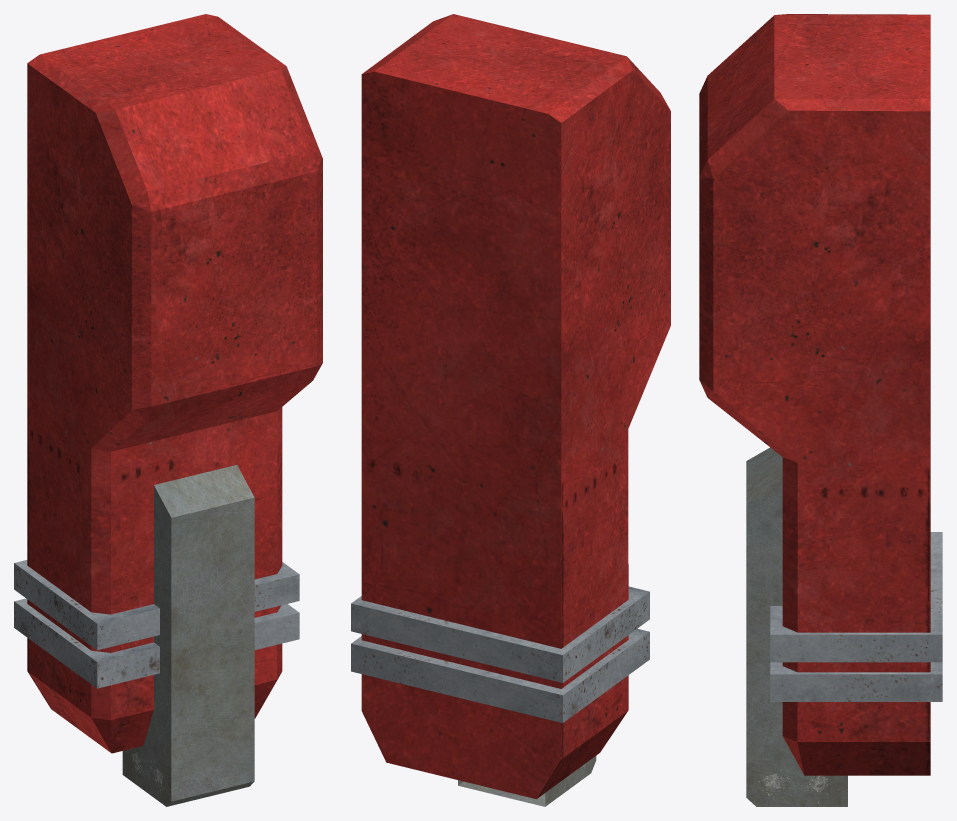
Rendered from Ob_ScafDetail_RC.fbx.
3 views of the same model, side by side, from view 1: azimuth 30°, elevation 25°; view 2: azimuth 150°, elevation 25°; view 3: azimuth 270°, elevation 25° (orthographic). The views are drawn at different scales.
Visible parts, largest first — view 1: Ob_ScafDetail_RC; view 2: Ob_ScafDetail_RC; view 3: Ob_ScafDetail_RC.
Boxes of the visible parts, x1,y1,x2,y2 form: Ob_ScafDetail_RC: (14,14,322,806); Ob_ScafDetail_RC: (351,14,670,806); Ob_ScafDetail_RC: (699,14,942,806).
Bounding box in the file's own units: 575 × 1906 × 577.
